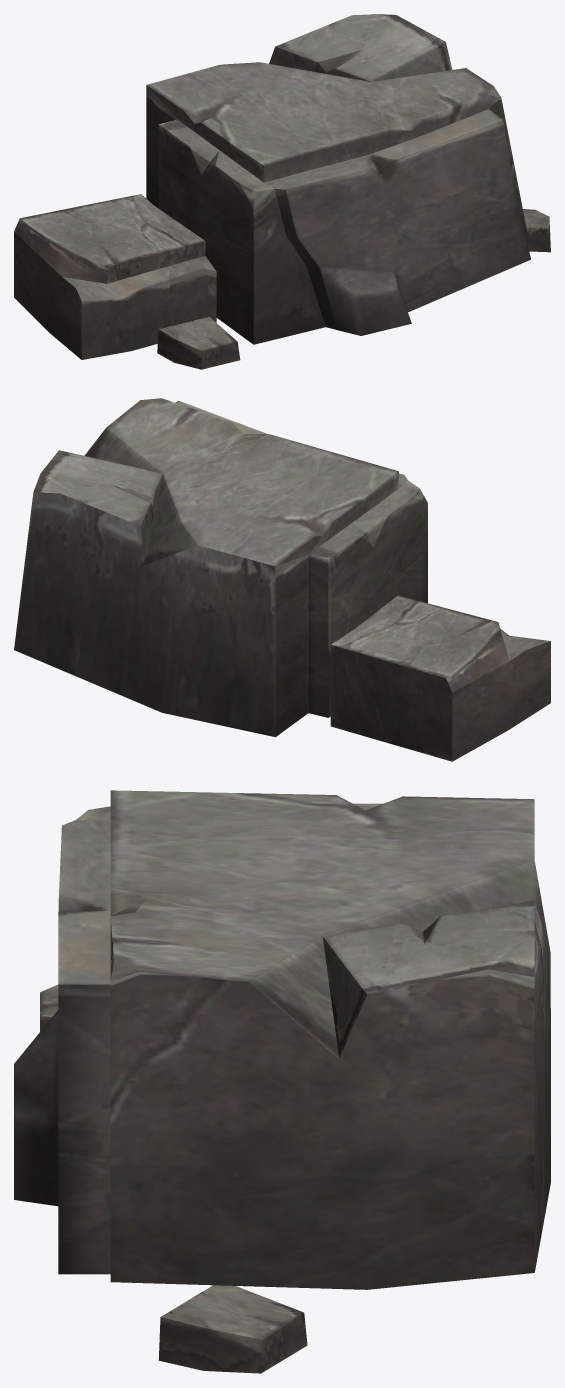
Rendered from q01c_wall_01.FBX.
3 views of the same model, one above another, from view 1: azimuth 30°, elevation 25°; view 2: azimuth 150°, elevation 25°; view 3: azimuth 270°, elevation 25° (orthographic). The views are drawn at different scales.
Visible parts, largest first — view 1: q01c_wall_01; view 2: q01c_wall_01; view 3: q01c_wall_01.
Part boxes in pixels (box(x1,y1,x2,y2)): q01c_wall_01: box(14, 14, 550, 369); q01c_wall_01: box(14, 398, 550, 761); q01c_wall_01: box(14, 790, 550, 1373).
Size of the model in its own units: 145 by 53.69 by 77.87.
